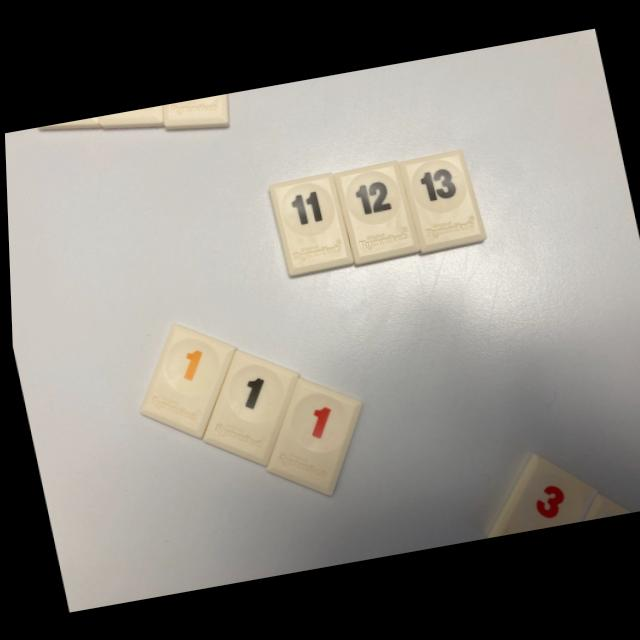black_1: (199, 350, 295, 465)
black_11: (268, 172, 351, 275)
black_12: (333, 162, 416, 264)
black_13: (398, 149, 484, 253)
orange_1: (137, 324, 233, 436)
red_1: (263, 378, 358, 494)
red_3: (486, 454, 593, 536)
